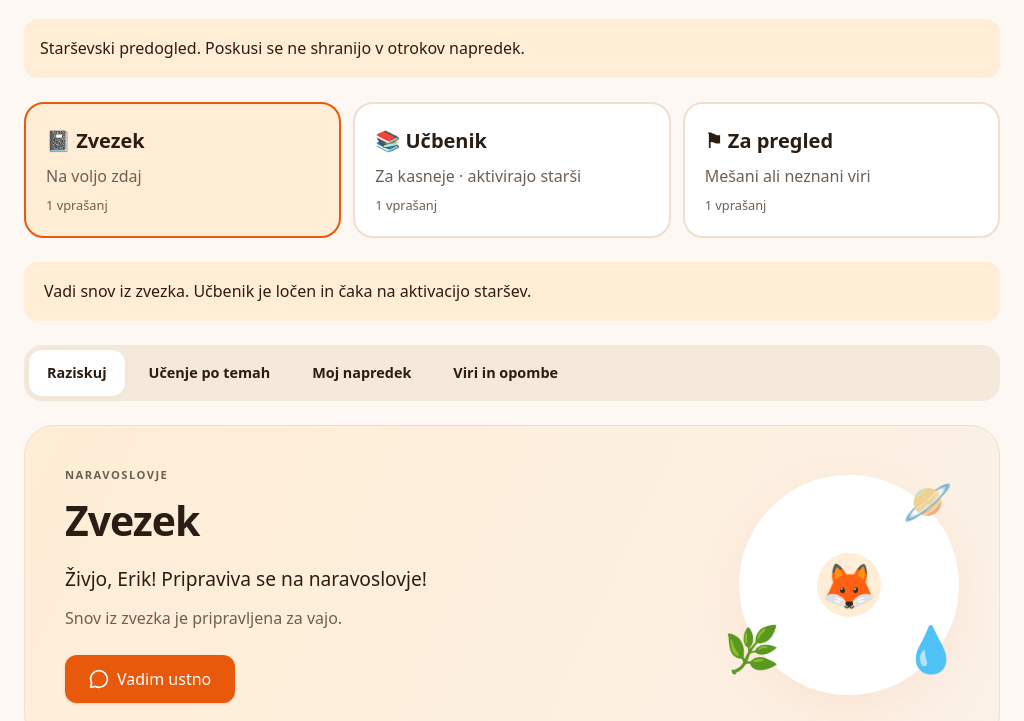
it: Source groups › flags mixed provenance without offering practice or activation
The image size is (1024, 721).
Check: the heading "Zvezek" is shown, box [65,492,199,548]
Click the button "⚑ Za pregled Mešani ali neznani viri 1 vprašanj": (841, 170) [683,102,1000,238]
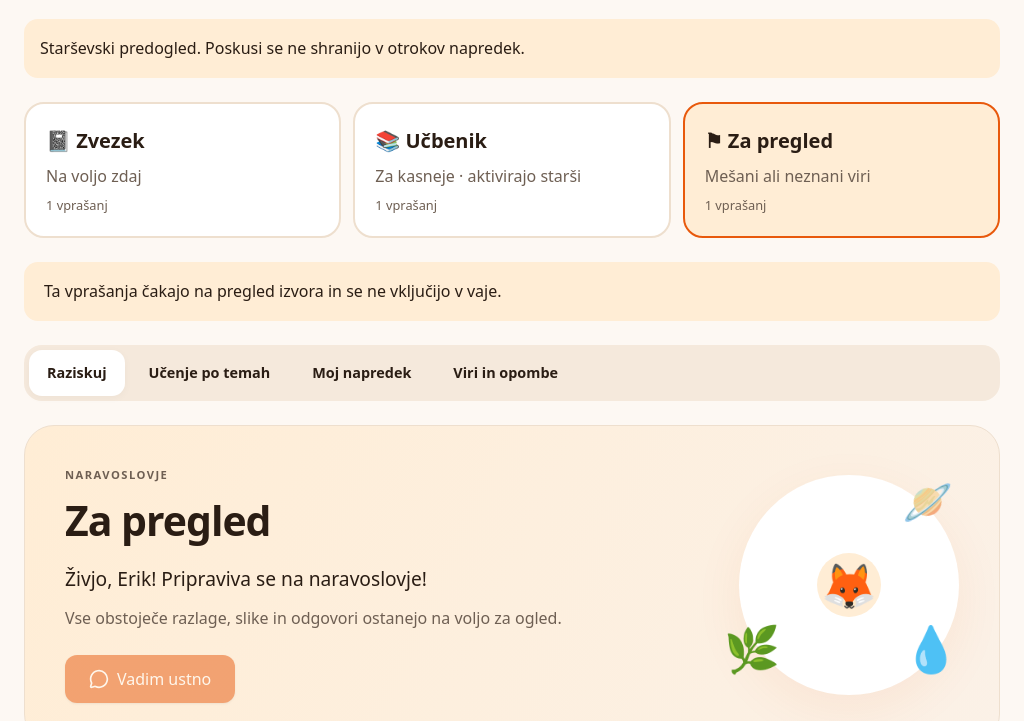
Click the button "Učenje po temah": (209, 373) [130,350,288,396]
(page scrolled)
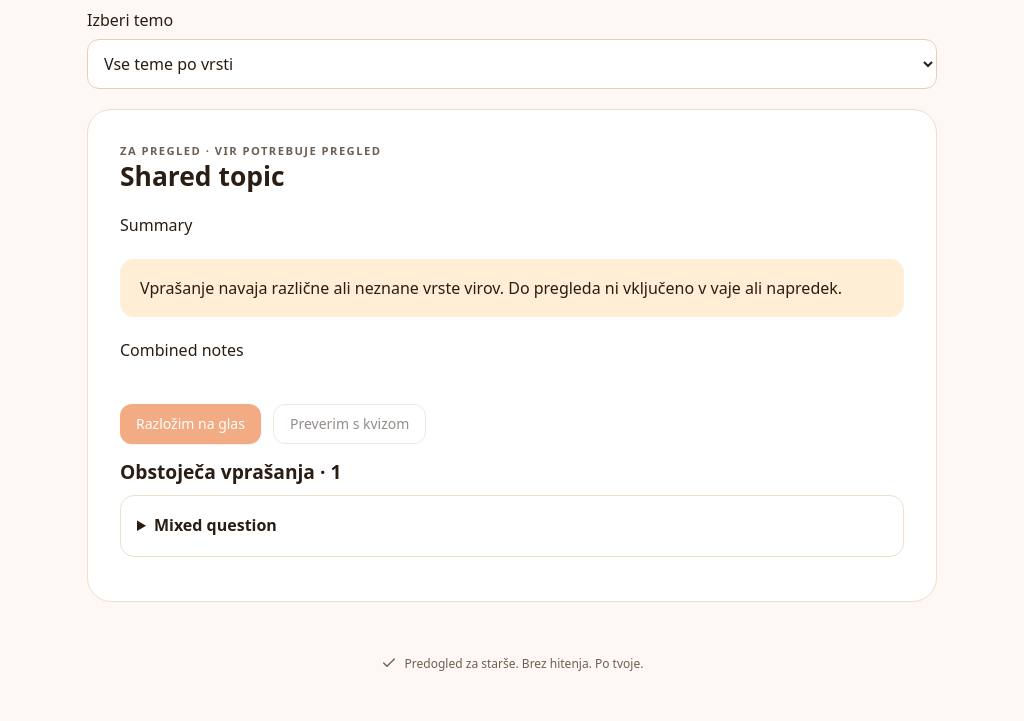
Check: the heading "Mixed question" is shown, box [154,514,277,536]
Check: the button "Razložim na glas" is disabled, box [120,404,261,444]
